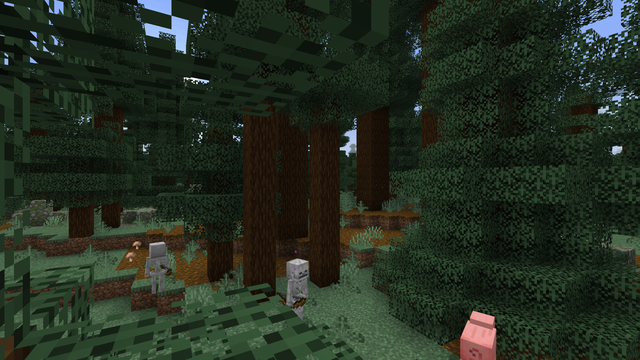cochons: (450, 318, 508, 359)
squelettes: (285, 258, 309, 325), (148, 241, 165, 296)
